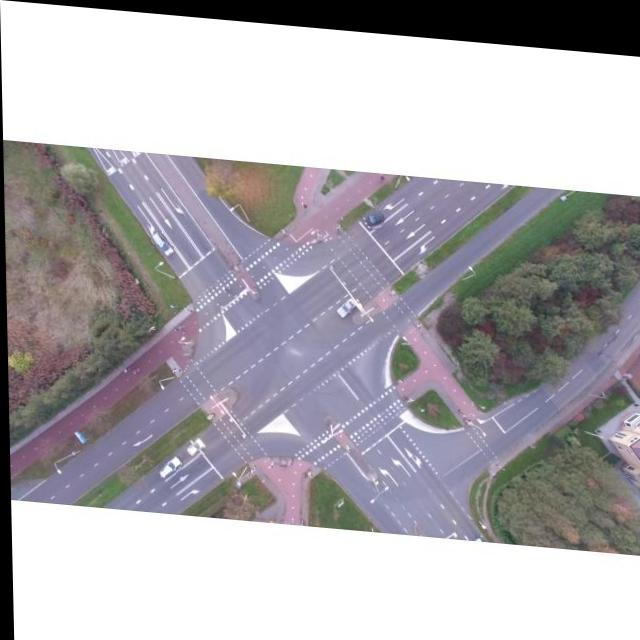vehicle: (151, 228, 174, 256), (156, 452, 180, 477), (361, 200, 385, 224), (335, 290, 355, 313), (184, 434, 203, 454)
